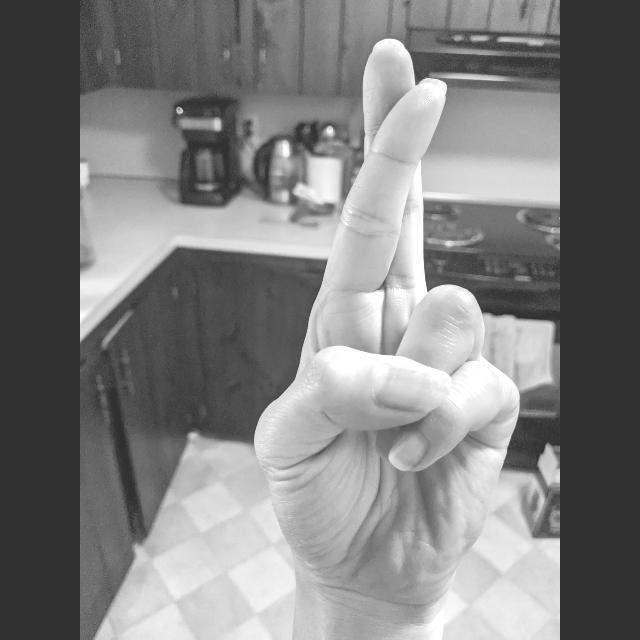R: (249, 34, 525, 614)
